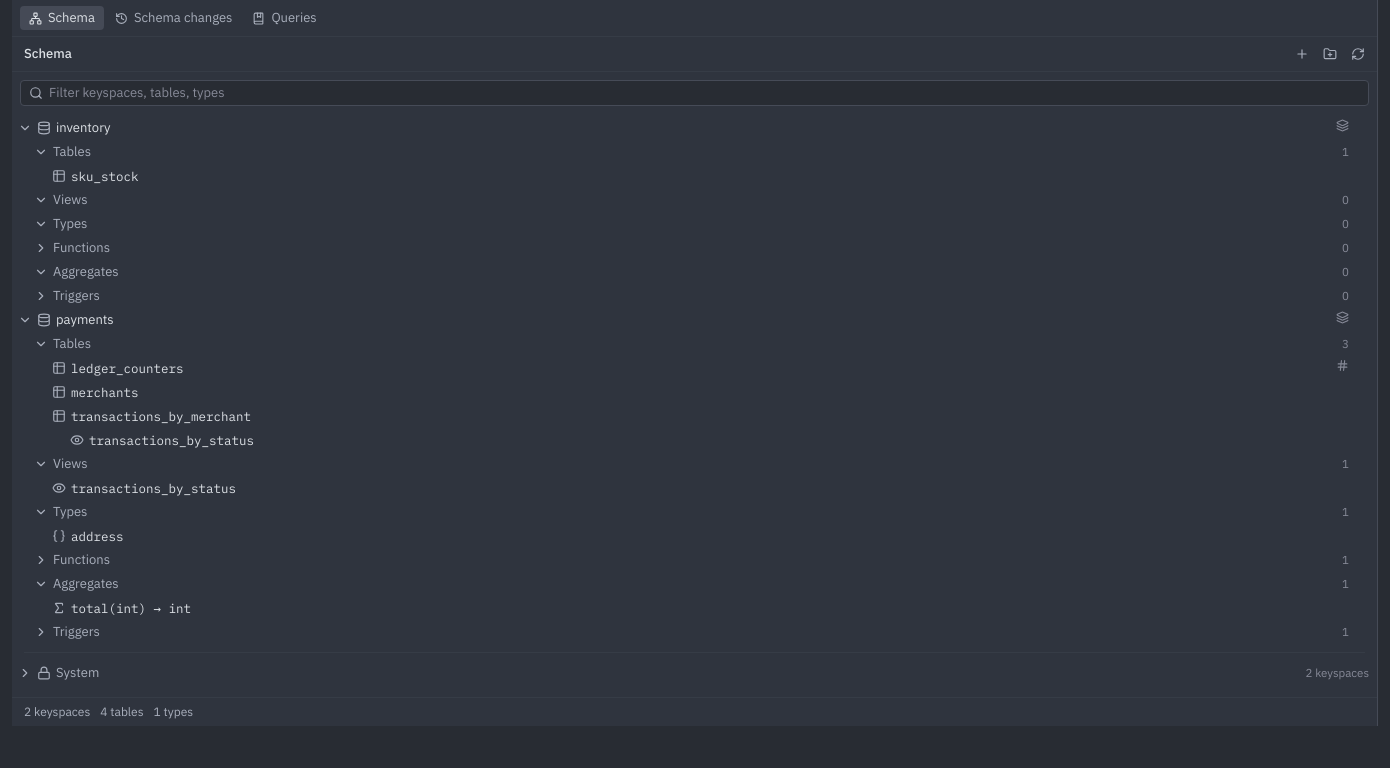
Scenario: LeftDock › shows the Queries tab with the saved-query library
Click the tab "Queries" at (284, 18), box [243,6,326,30]
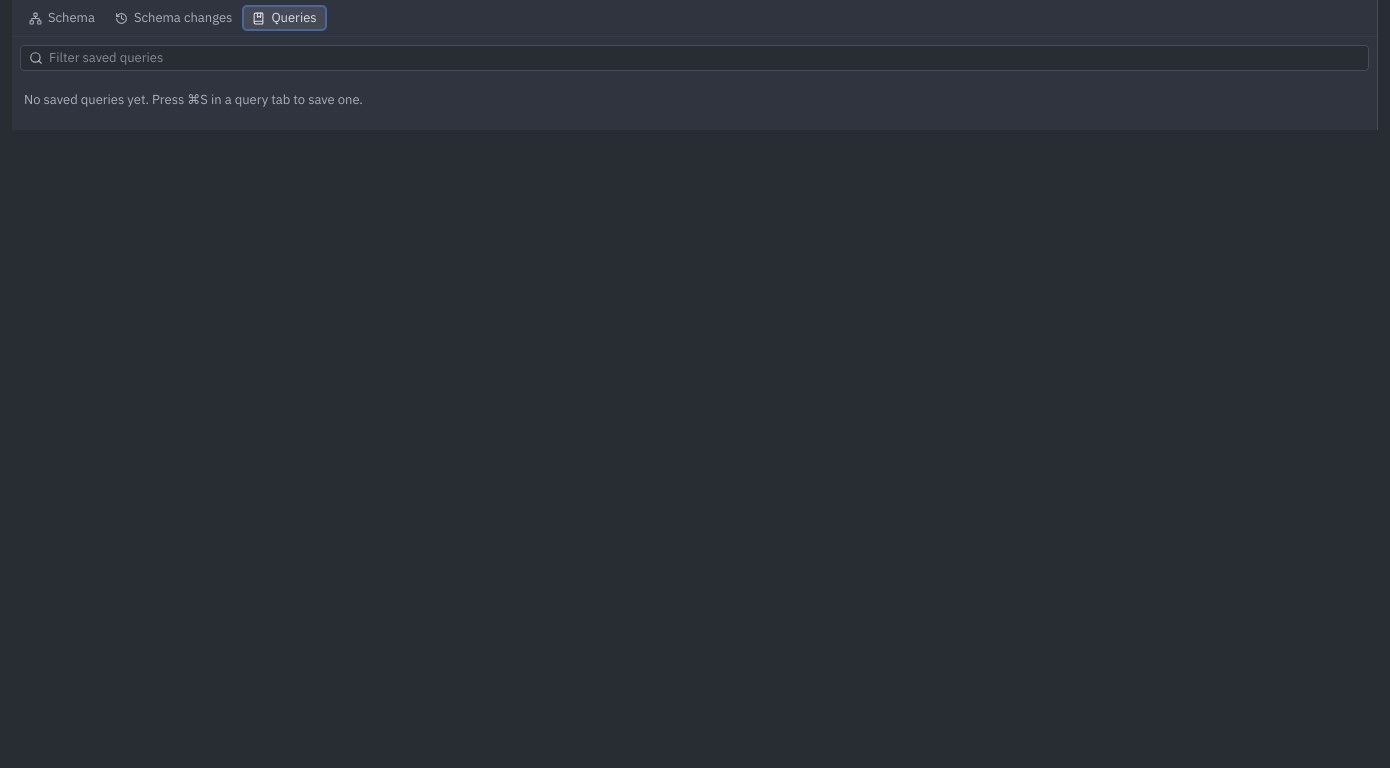
Expected: the text "No saved queries yet. Press ⌘S in a query tab to save one." is shown, [24,91,363,108]
